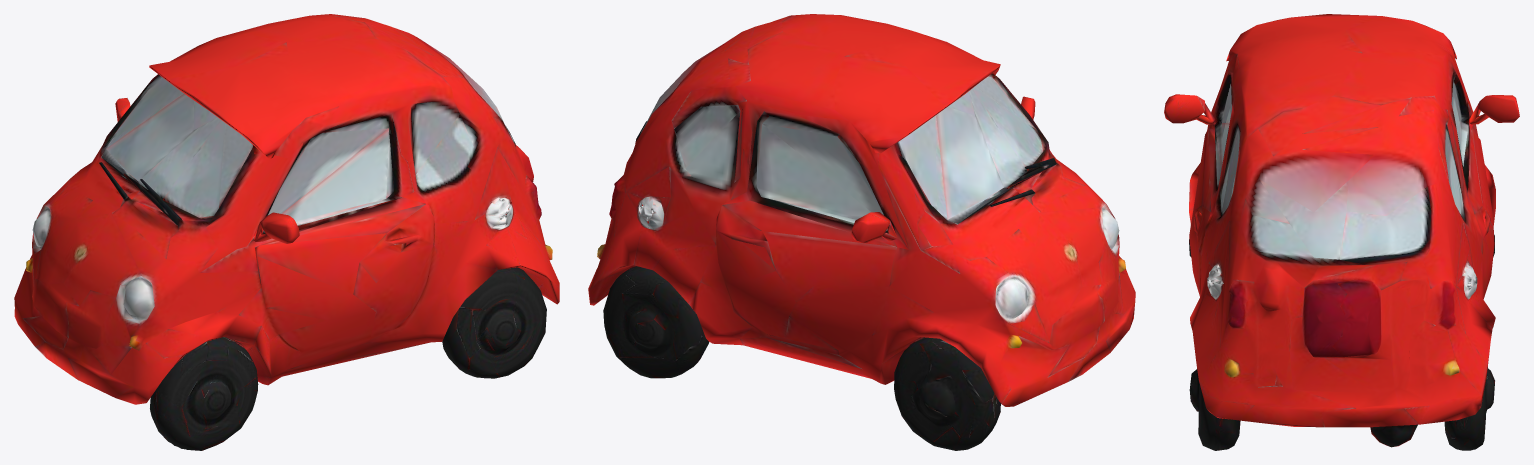
File: car-a-512.glb
The picture shows the model from 3 angles, left to right: view 1: azimuth 30°, elevation 25°; view 2: azimuth 150°, elevation 25°; view 3: azimuth 270°, elevation 25°; orthographic projection. The views are drawn at different scales.
Bounding box in the file's own units: 1.9 × 1.24 × 1.23.
1 material, 1 textured.
